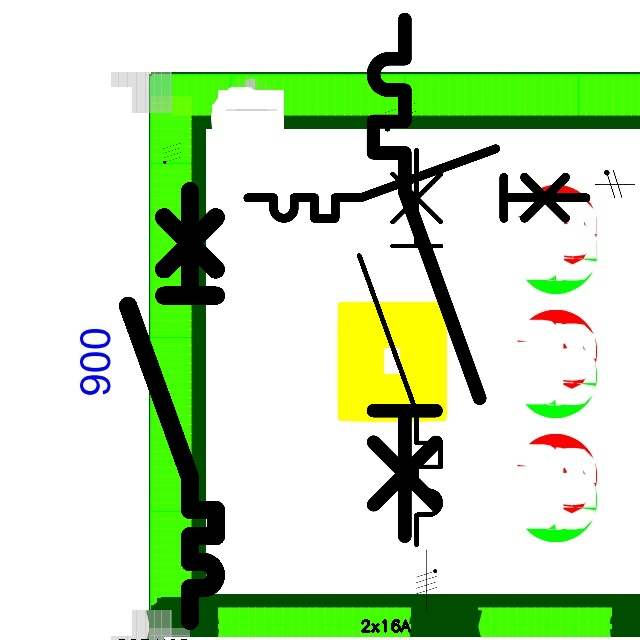interruptor_termomagnetico: (360, 6, 493, 550), (117, 180, 227, 632), (349, 139, 451, 554), (239, 140, 595, 227)
